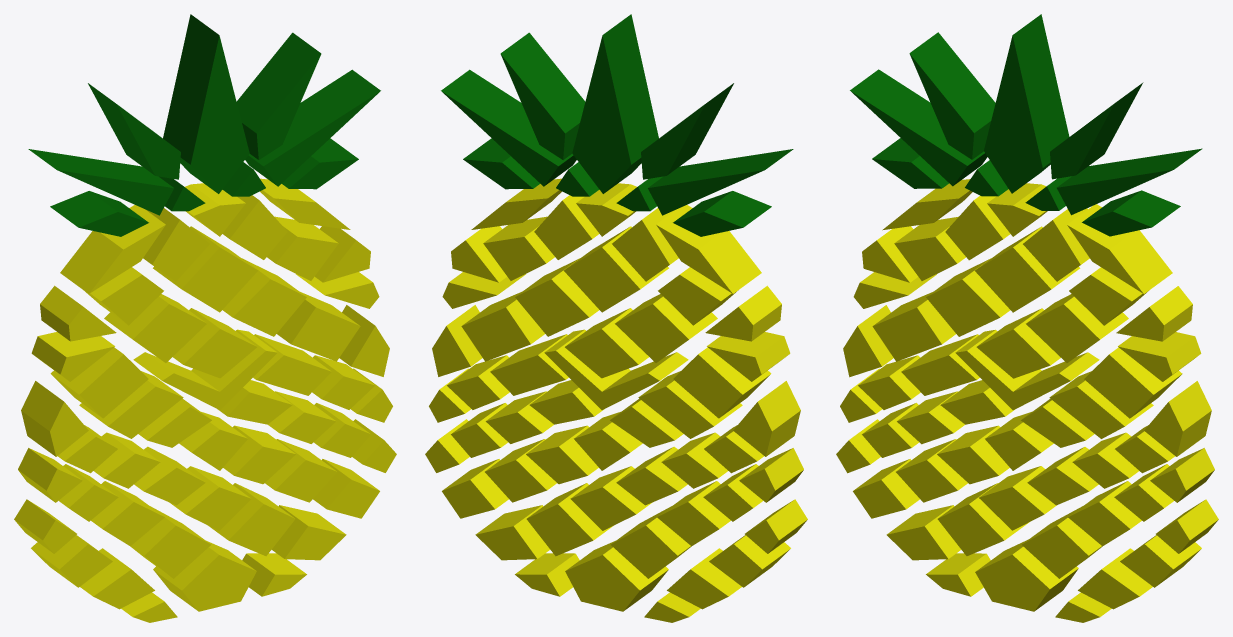
Rendered from Pineapple mesh.fbx.
3 views of the same model, side by side, from view 1: azimuth 30°, elevation 25°; view 2: azimuth 150°, elevation 25°; view 3: azimuth 330°, elevation 25° (orthographic).
Visible parts, largest first — view 1: Body1, Hojas1; view 2: Body1, Hojas1; view 3: Body1, Hojas1.
Part boxes in pixels (box(x1,y1,x2,y2)): Body1: box(14, 178, 396, 622); Hojas1: box(28, 14, 380, 236); Body1: box(425, 178, 807, 622); Hojas1: box(441, 14, 793, 236); Body1: box(836, 179, 1218, 622); Hojas1: box(850, 14, 1202, 236).
Size of the model in its own units: 0.5216 by 0.8052 by 0.0738.
